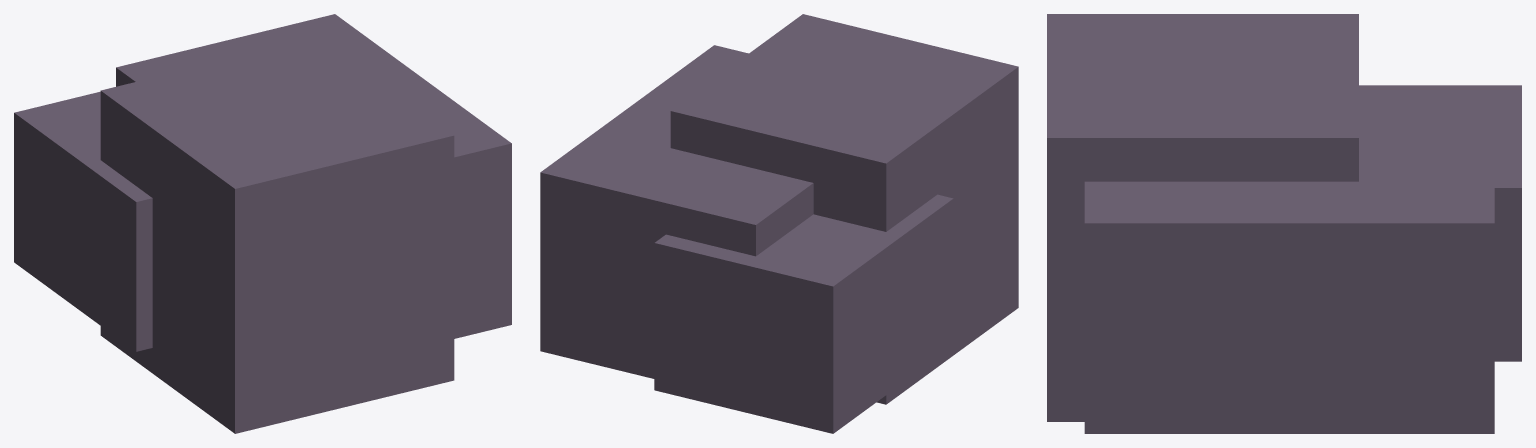
File: Rock1.glb
3 renders of one model, left to right at view 1: azimuth 30°, elevation 25°; view 2: azimuth 150°, elevation 25°; view 3: azimuth 270°, elevation 25°, orthographic. The views are drawn at different scales.
Visible parts, largest first — view 1: Cube.015; view 2: Cube.015; view 3: Cube.015.
Boxes of the visible parts, x1,y1,x2,y2 form: Cube.015: (14, 14, 511, 433); Cube.015: (540, 14, 1018, 433); Cube.015: (1047, 14, 1521, 433).
Size of the model in its own units: 1.51 by 1.14 by 1.73.
Materials: 1 (1 with a texture image).
